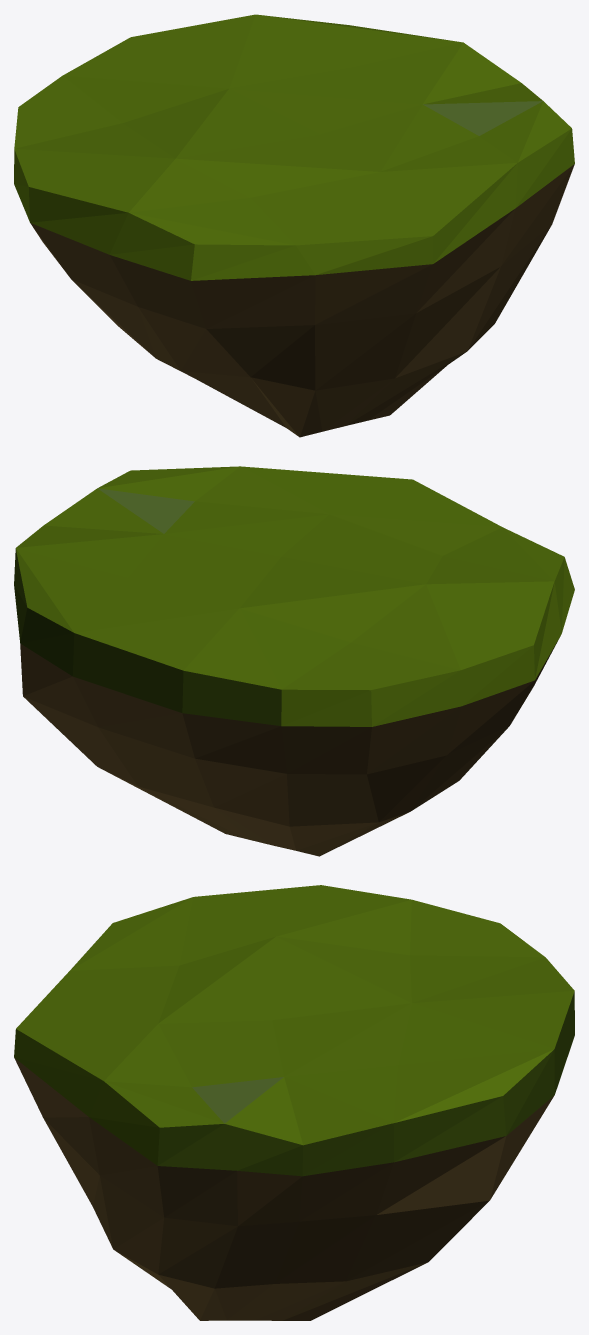
Rendered from Floating_Platform_1.fbx.
3 views of the same model, one above another, from view 1: azimuth 30°, elevation 25°; view 2: azimuth 150°, elevation 25°; view 3: azimuth 270°, elevation 25° (orthographic). The views are drawn at different scales.
Parts seen in each view (by area): view 1: Trial_Level_2:Trial_Level_2:Trial_Level_2:Trial_Level_2:pCub; view 2: Trial_Level_2:Trial_Level_2:Trial_Level_2:Trial_Level_2:pCub; view 3: Trial_Level_2:Trial_Level_2:Trial_Level_2:Trial_Level_2:pCub.
Part boxes in pixels (bbox=[...]): Trial_Level_2:Trial_Level_2:Trial_Level_2:Trial_Level_2:pCub: bbox=[14, 14, 574, 437]; Trial_Level_2:Trial_Level_2:Trial_Level_2:Trial_Level_2:pCub: bbox=[14, 466, 574, 856]; Trial_Level_2:Trial_Level_2:Trial_Level_2:Trial_Level_2:pCub: bbox=[14, 885, 574, 1320].
Size of the model in its own units: 16.97 by 9.17 by 15.98.
